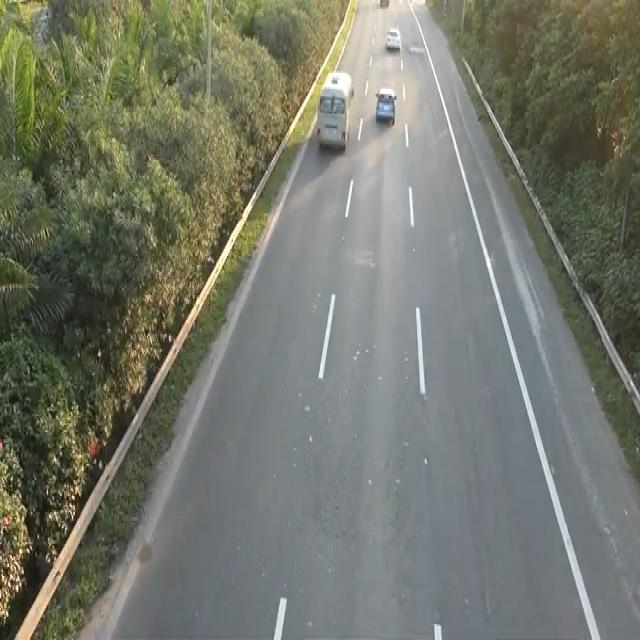bus: (374, 84, 397, 126)
jeep: (314, 68, 354, 151)
